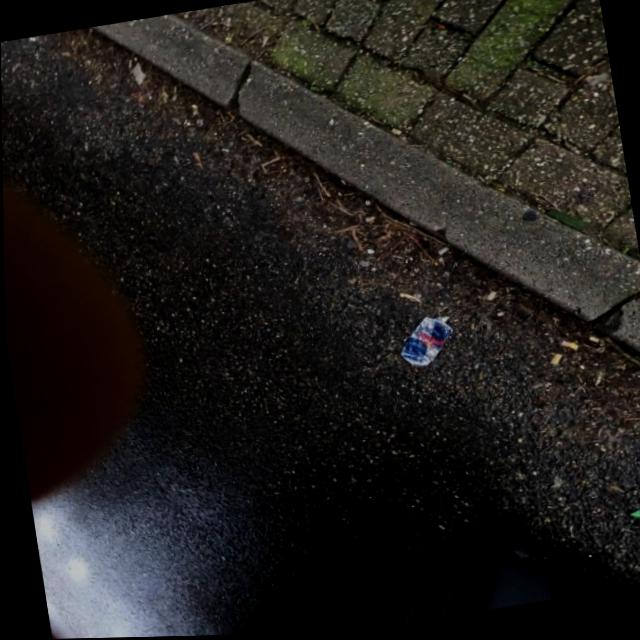Can-Metal: (392, 314, 458, 373)
